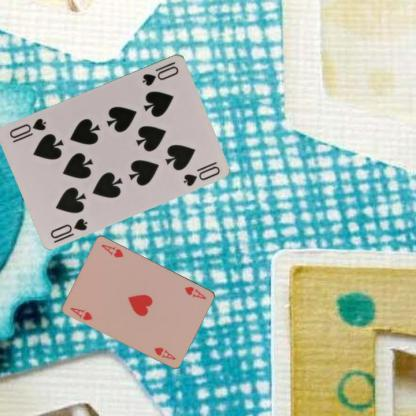10s: (140, 58, 180, 87), (48, 215, 89, 240)
Ah: (68, 304, 94, 322), (182, 284, 207, 300)
